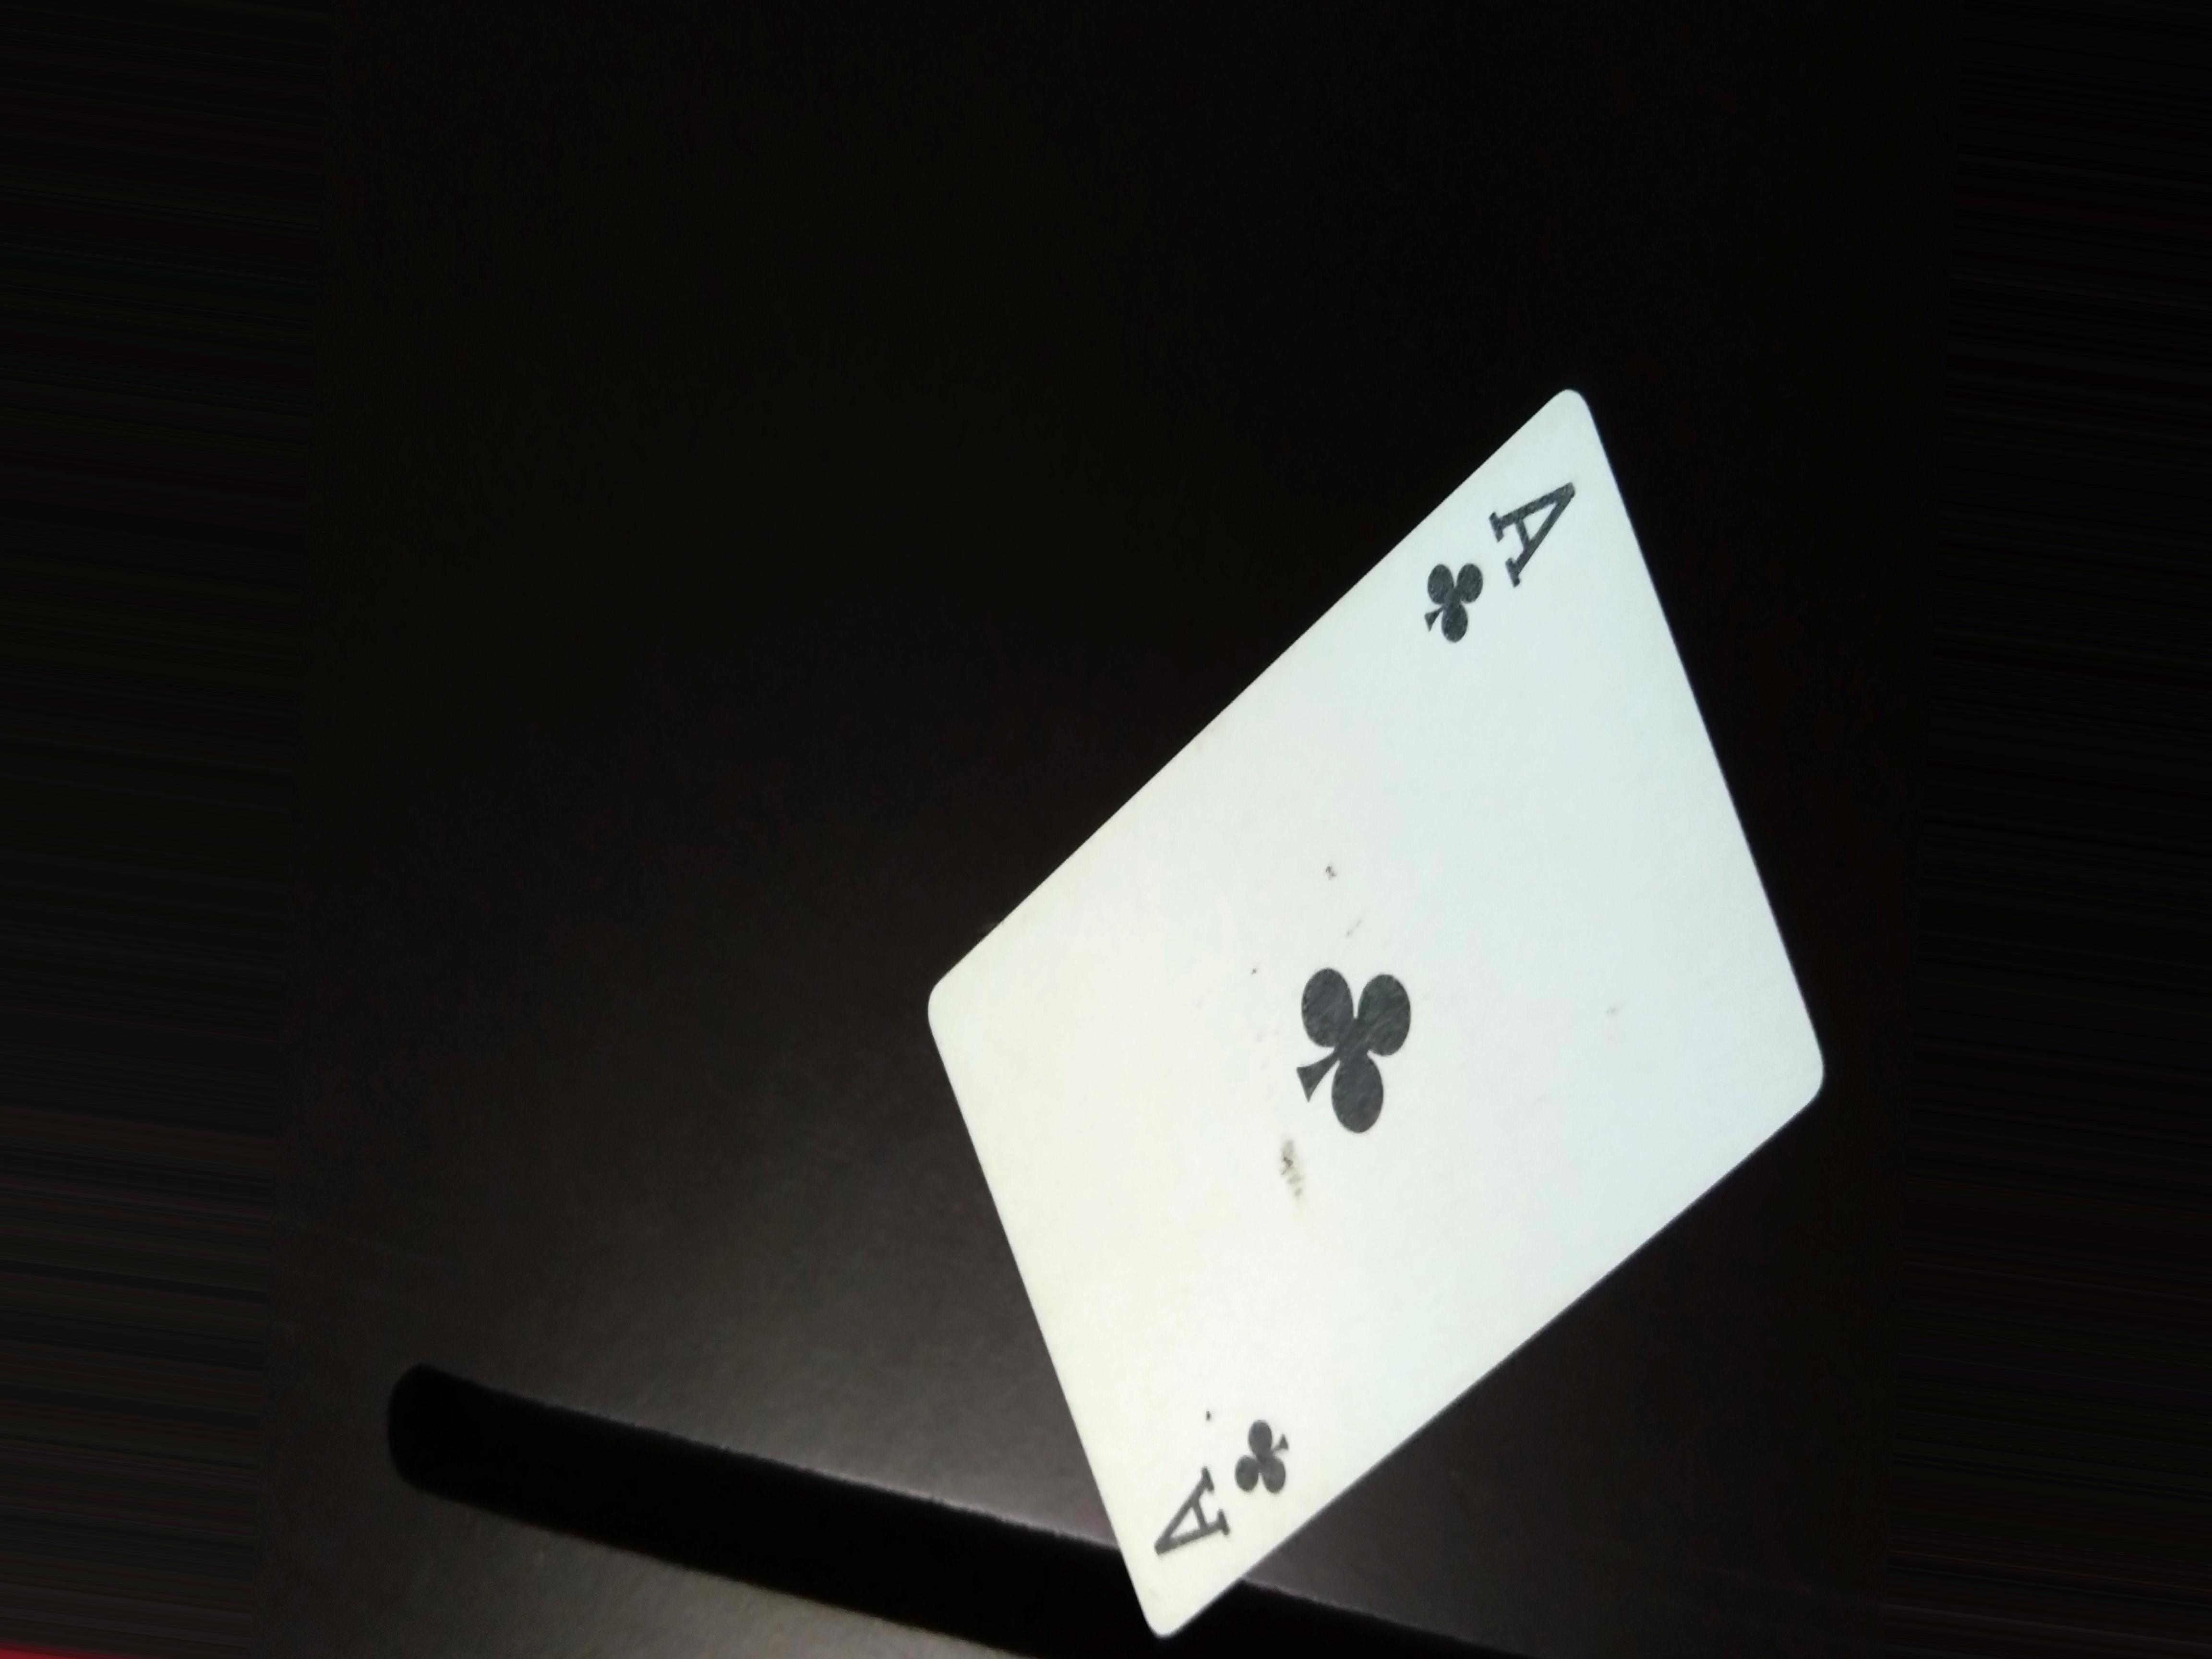AC: (1151, 1399, 1312, 1572)
